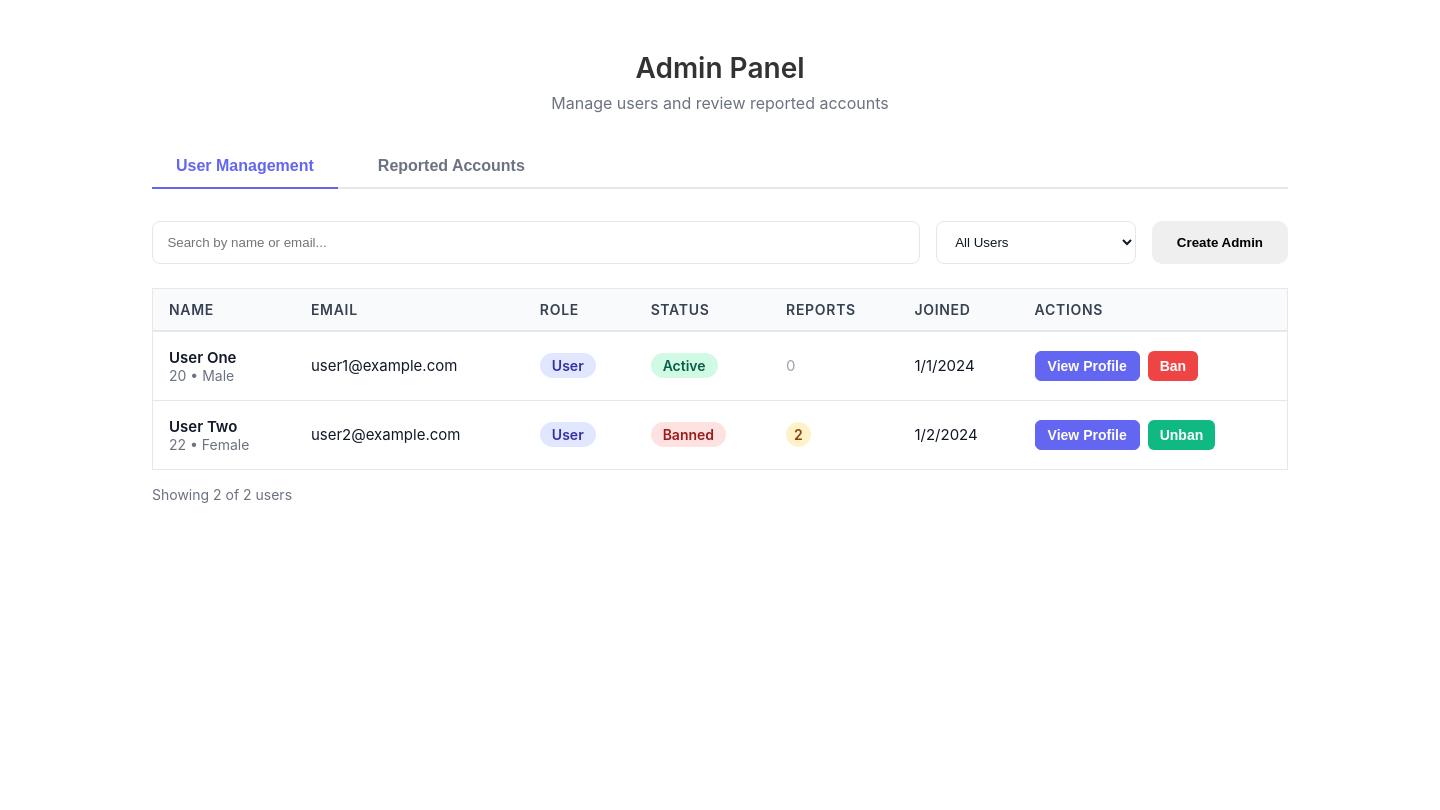
Scenario: AdminPanel › User Management Tab › should display error message when action fails
Expected: the text "User One" is shown, [169,348,236,367]
Click the button "Ban".
click(1173, 366)  # box [1148,351,1198,381]
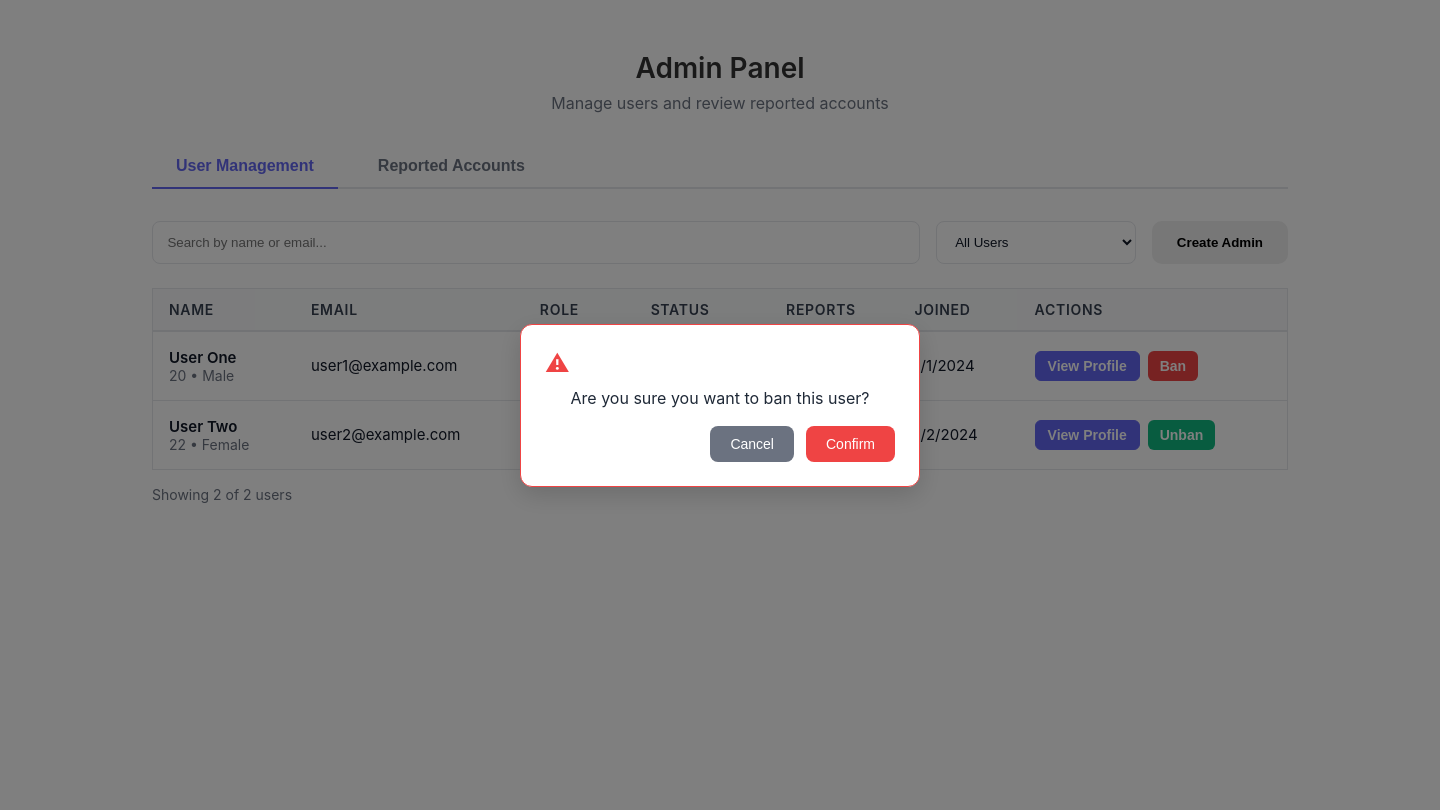
Result: the text "Are you sure you want to ban this user?" is shown at [545,386,895,410]
Click confirm button
Click the button "Confirm".
click(850, 444)  # box [806,426,895,462]
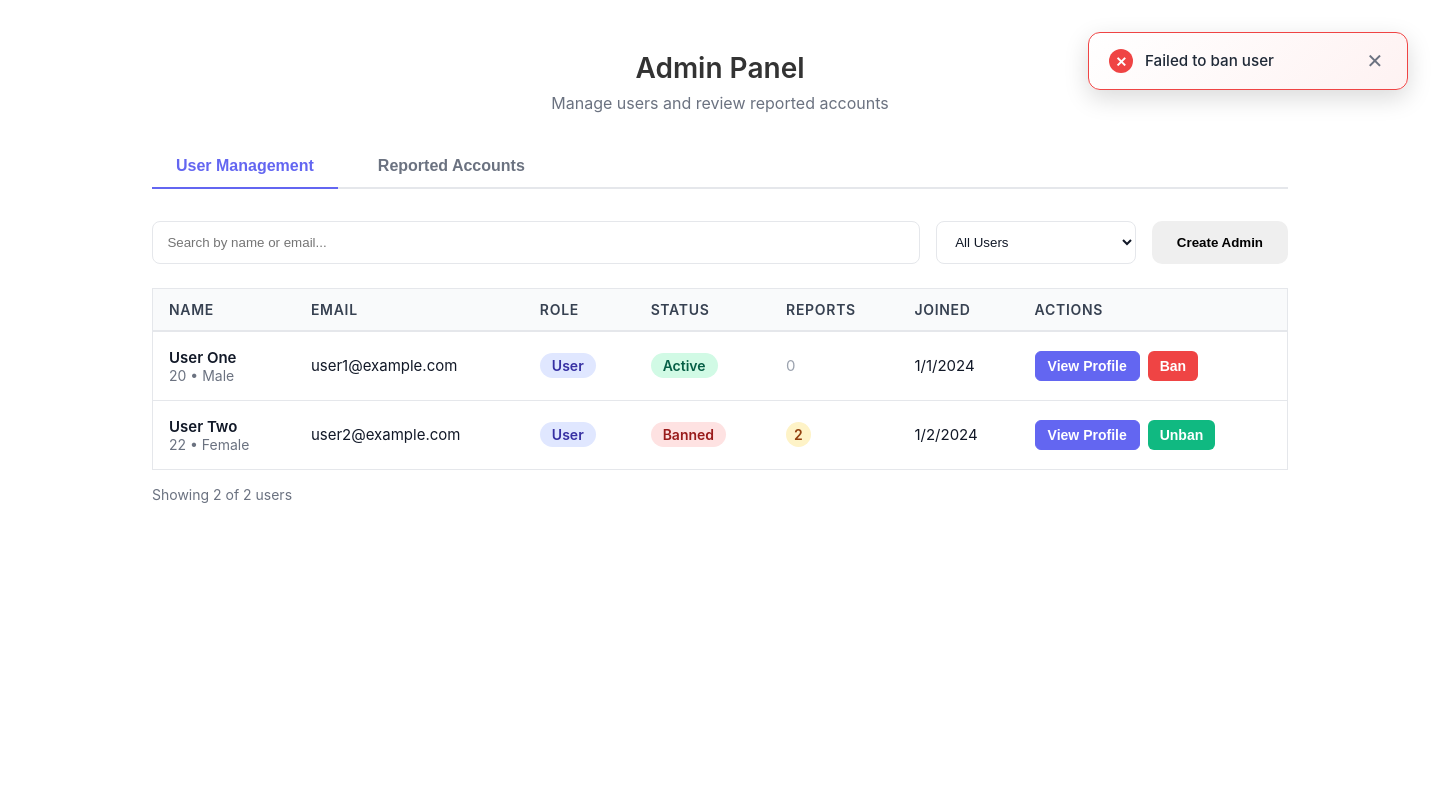
Result: the text "Failed to ban user" is shown at [1145,50,1274,72]
